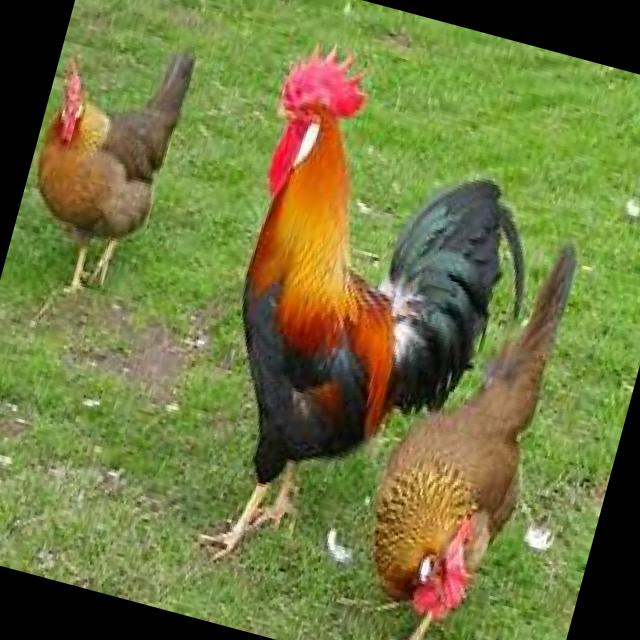animal: (156, 41, 570, 612), (336, 218, 579, 640), (6, 17, 199, 310)
